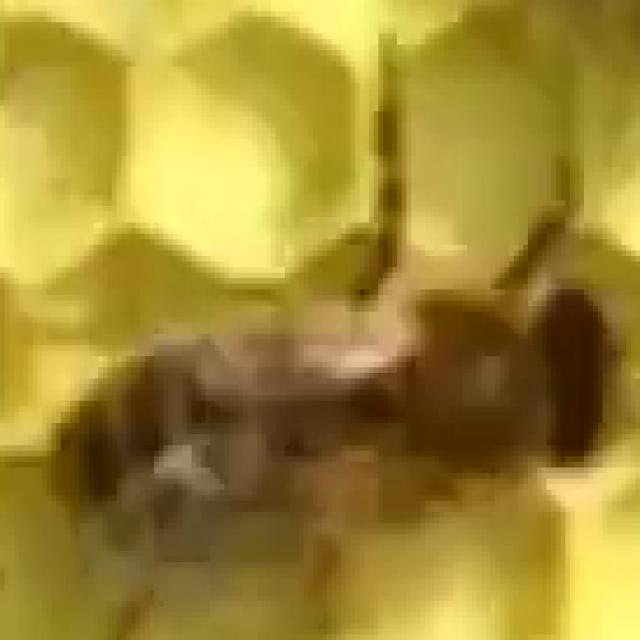honeybee: (15, 281, 612, 578)
